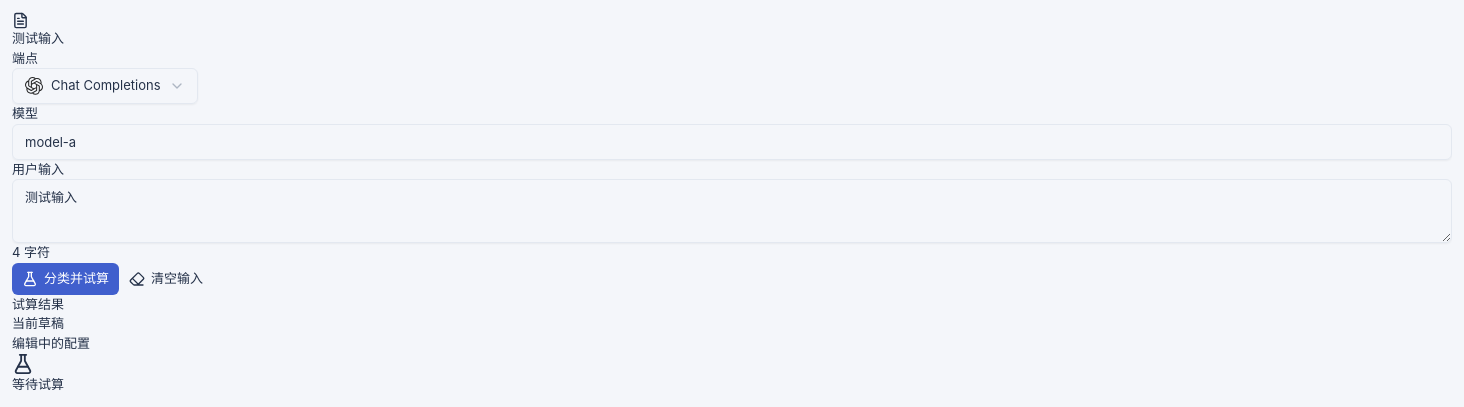
Test: discards an in-flight classification after the input changes
The image size is (1464, 407).
Click the button "分类并试算" at (66, 278), box [12, 262, 119, 294]
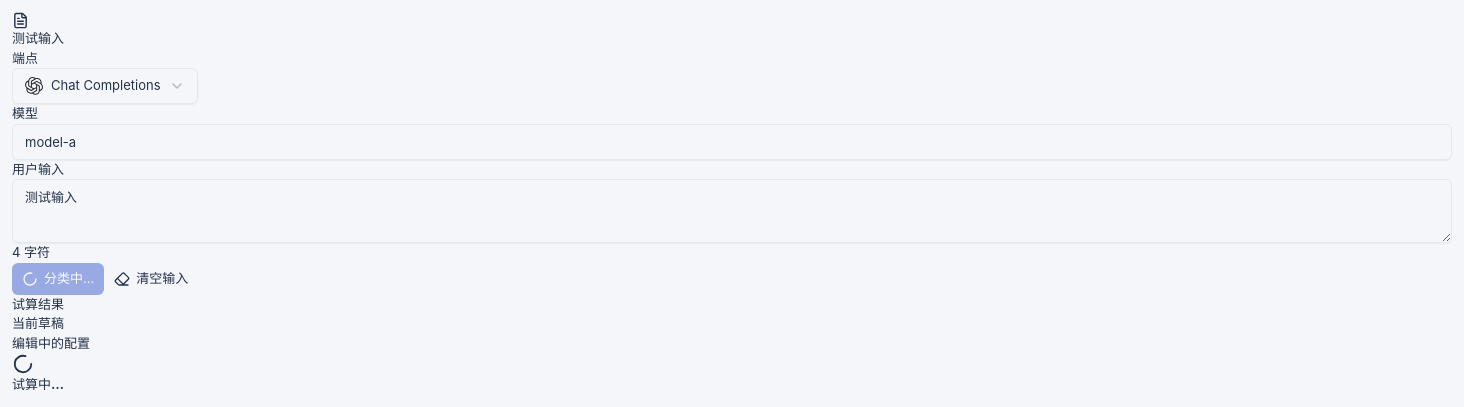
Check: the button "分类中…" is disabled, box [12, 262, 104, 294]
Replace the text in the text box named "测试文本" with "已经更换的文本" at (732, 211), box [12, 179, 1452, 243]
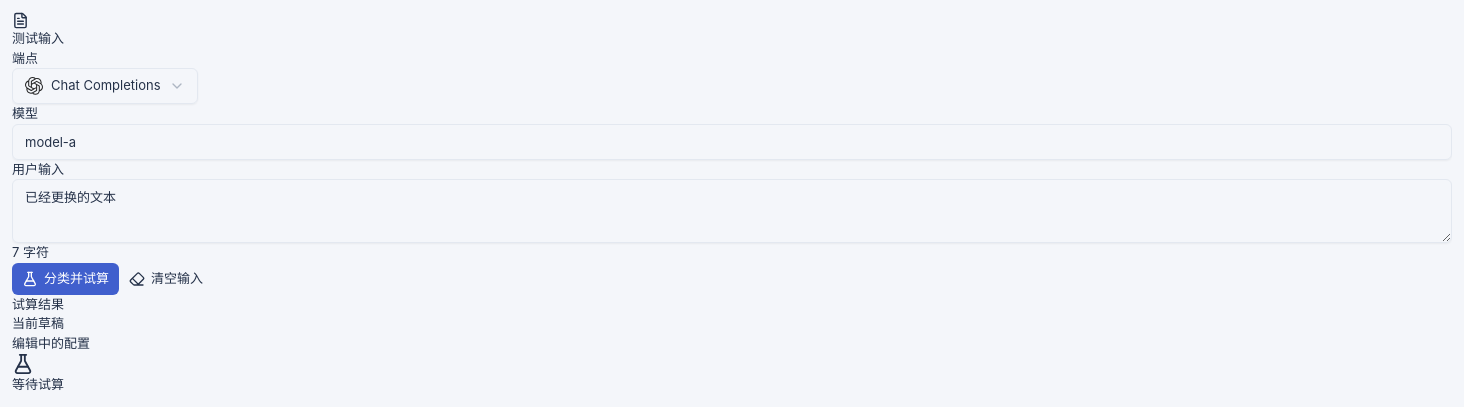
Check: the button "分类并试算" is shown, box [12, 262, 119, 294]
